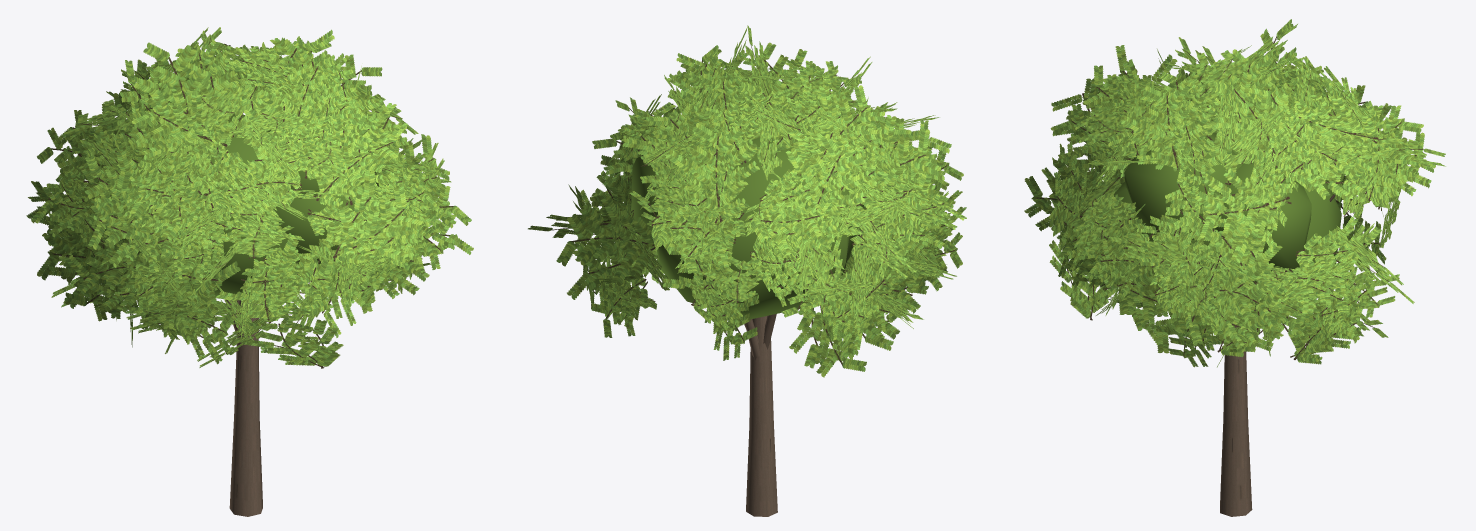
The model's file is GLEDITSIA_1.glb.
The picture shows the model from 3 angles, left to right: view 1: azimuth 30°, elevation 25°; view 2: azimuth 150°, elevation 25°; view 3: azimuth 270°, elevation 25°; orthographic projection. The views are drawn at different scales.
Visible parts, largest first — view 1: Arv_GLEDITSIA_lod1; view 2: Arv_GLEDITSIA_lod1; view 3: Arv_GLEDITSIA_lod1.
Part boxes in pixels (x1=…): Arv_GLEDITSIA_lod1: x1=26, y1=27, x2=473, y2=516; Arv_GLEDITSIA_lod1: x1=528, y1=25, x2=966, y2=516; Arv_GLEDITSIA_lod1: x1=1024, y1=19, x2=1445, y2=516.
Size of the model in its own units: 9.59 by 10.71 by 9.29.
Materials: 3 (2 with a texture image).
